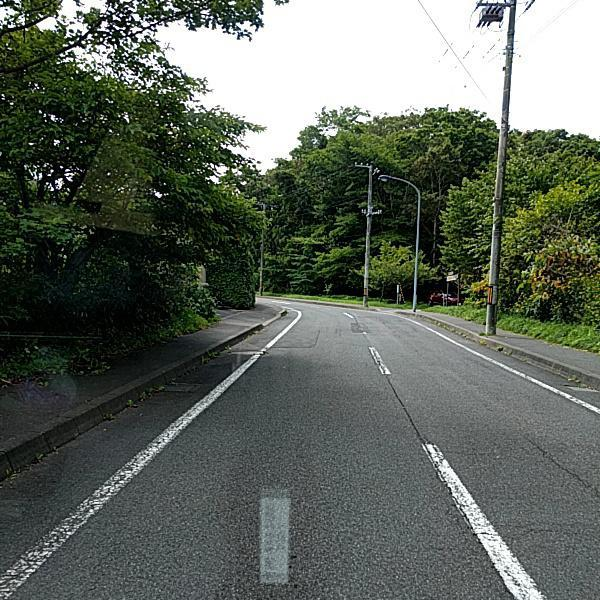D00: (518, 429, 593, 488)
D44: (3, 390, 216, 590), (420, 443, 542, 595), (365, 344, 391, 378)
